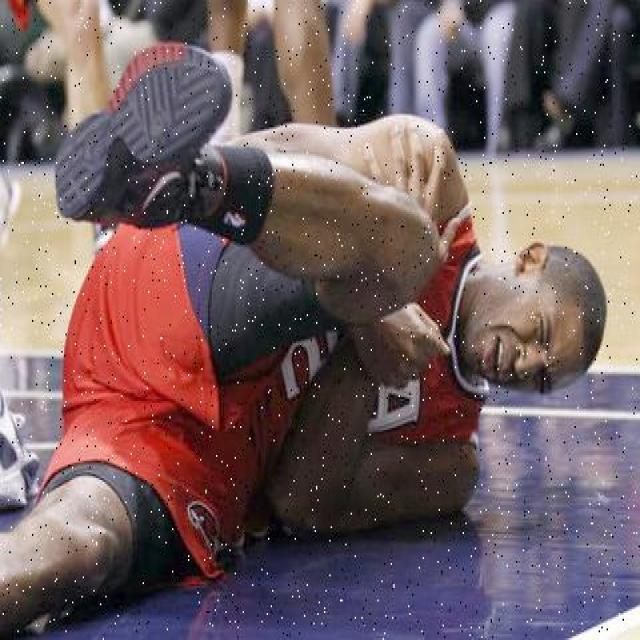fall: (8, 100, 599, 609)
